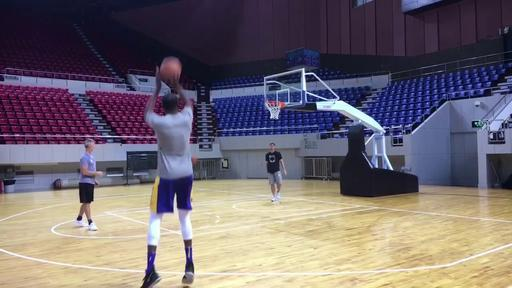ball: (160, 56, 182, 79)
human: (141, 66, 194, 288), (74, 139, 104, 231), (264, 142, 286, 202)
rim: (264, 101, 284, 120)
